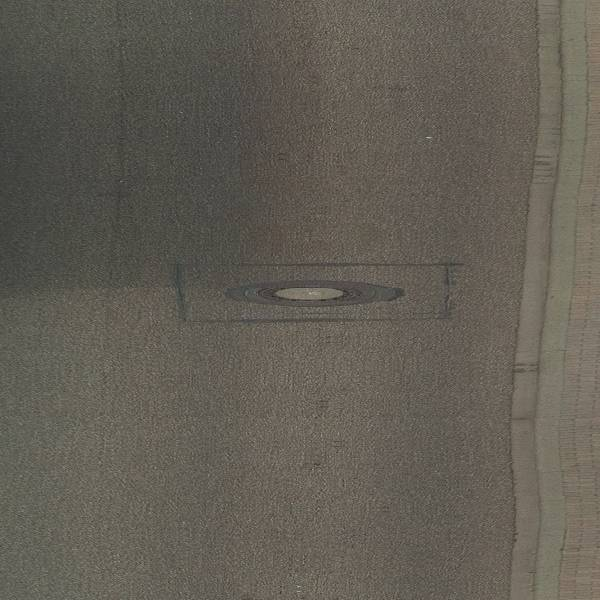road_damage: (163, 251, 465, 332)
